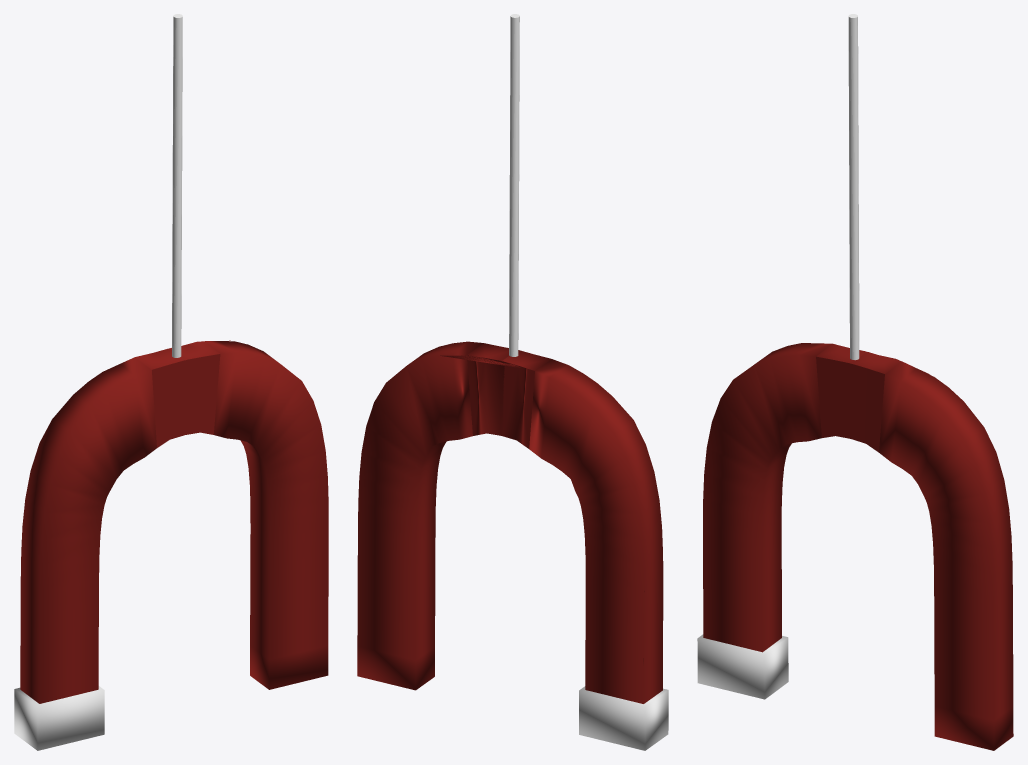
Rendered from magnet.glb.
3 views of the same model, side by side, from view 1: azimuth 30°, elevation 25°; view 2: azimuth 150°, elevation 25°; view 3: azimuth 330°, elevation 25° (orthographic).
Visible parts, largest first — view 1: Cube, Cube.001, Cylinder; view 2: Cube, Cube.001, Cylinder; view 3: Cube, Cube.001, Cylinder.
Boxes of the visible parts, left/top/right/bottom form: Cube: left=20, top=340, right=328, bottom=703; Cube.001: left=14, top=686, right=104, bottom=750; Cylinder: left=172, top=14, right=182, bottom=357; Cube: left=357, top=341, right=663, bottom=703; Cube.001: left=579, top=686, right=668, bottom=750; Cylinder: left=509, top=14, right=519, bottom=356; Cube: left=703, top=343, right=1013, bottom=750; Cube.001: left=697, top=634, right=788, bottom=699; Cylinder: left=848, top=14, right=859, bottom=360.
Bounding box in the file's own units: 8.92 × 20.23 × 1.25.
